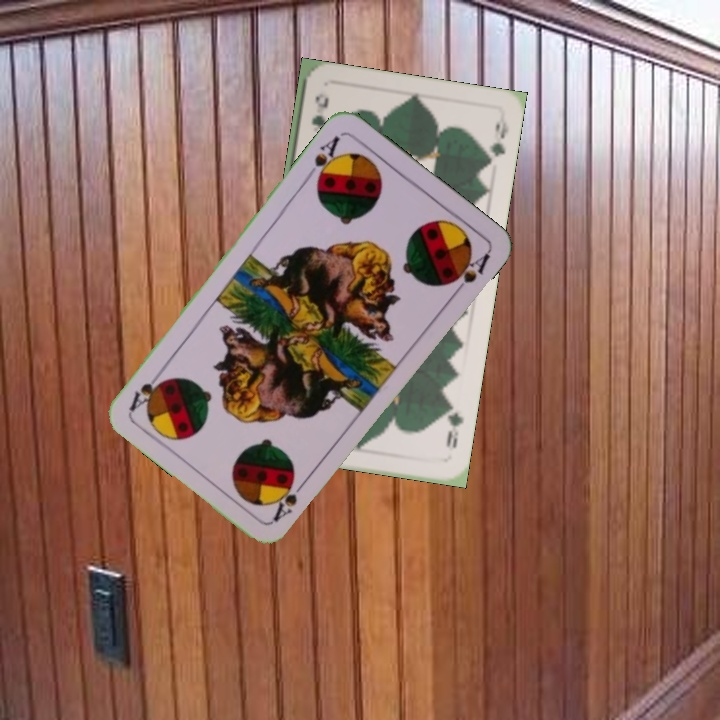G9: (441, 399, 466, 451), (307, 92, 330, 142)
SA: (303, 131, 344, 187), (269, 473, 311, 525)
